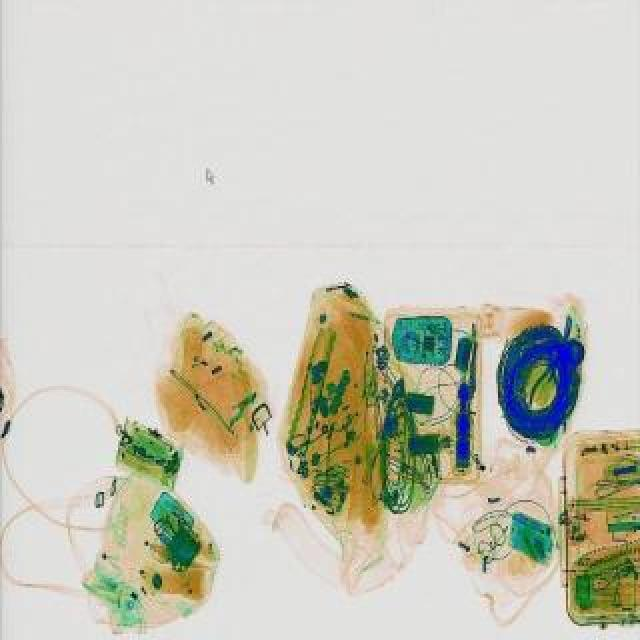wrench: (526, 344, 574, 410)
